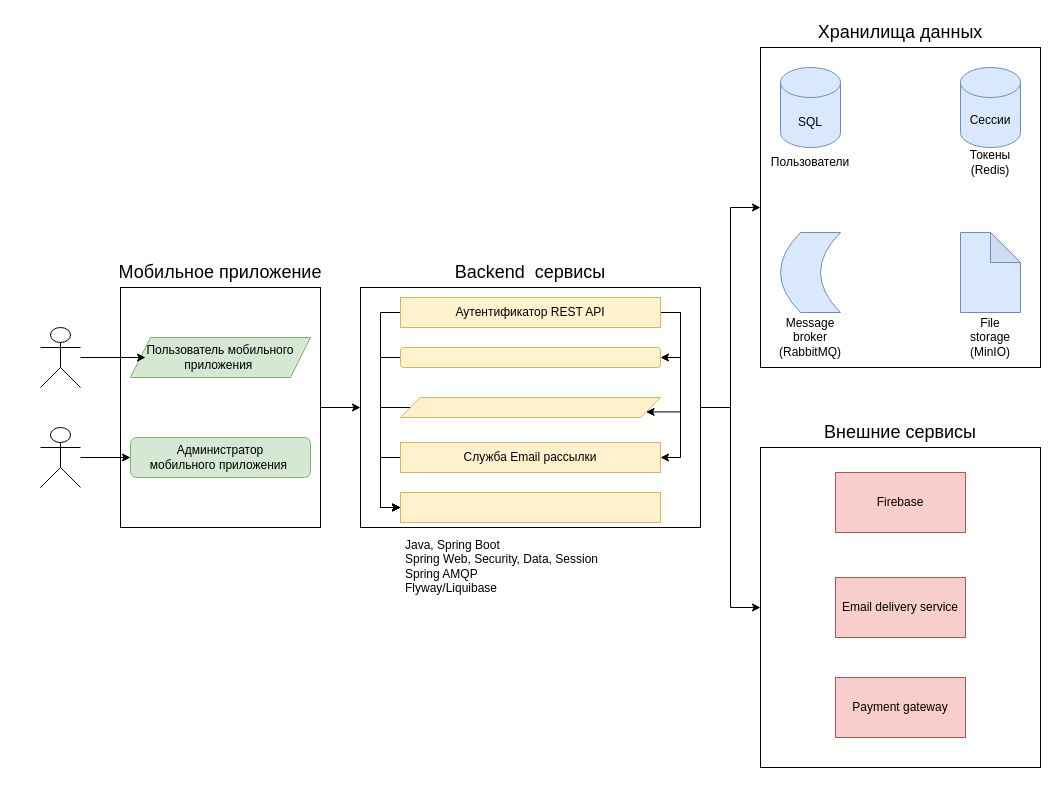
Some shapes in this 1058 by 785 pixel diagram are drawn without their labels. Here are the shapes that lost their labels. From the top down, the centre of each, then its label:
the point at 60,357: Пользователь
the point at 530,357: Пользовательский Backend
the point at 530,407: Администраторский Backend
the point at 60,457: Администратор
the point at 530,507: Сервис PUSH уведомлений
